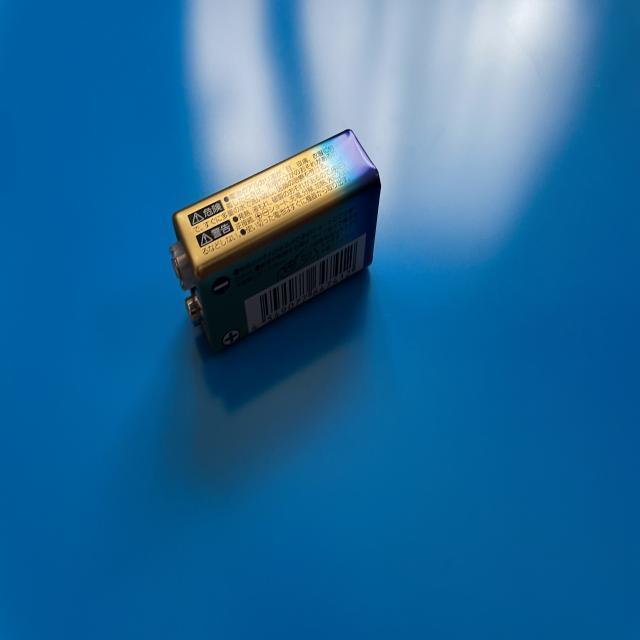9V: (170, 129, 385, 357)
